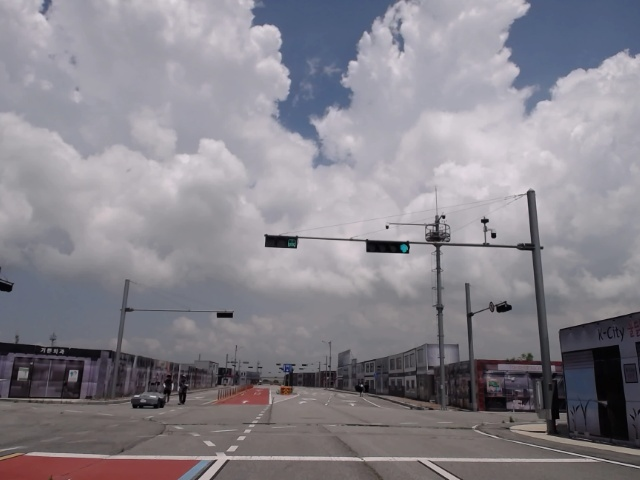straight_green_4: (366, 241, 412, 255)
